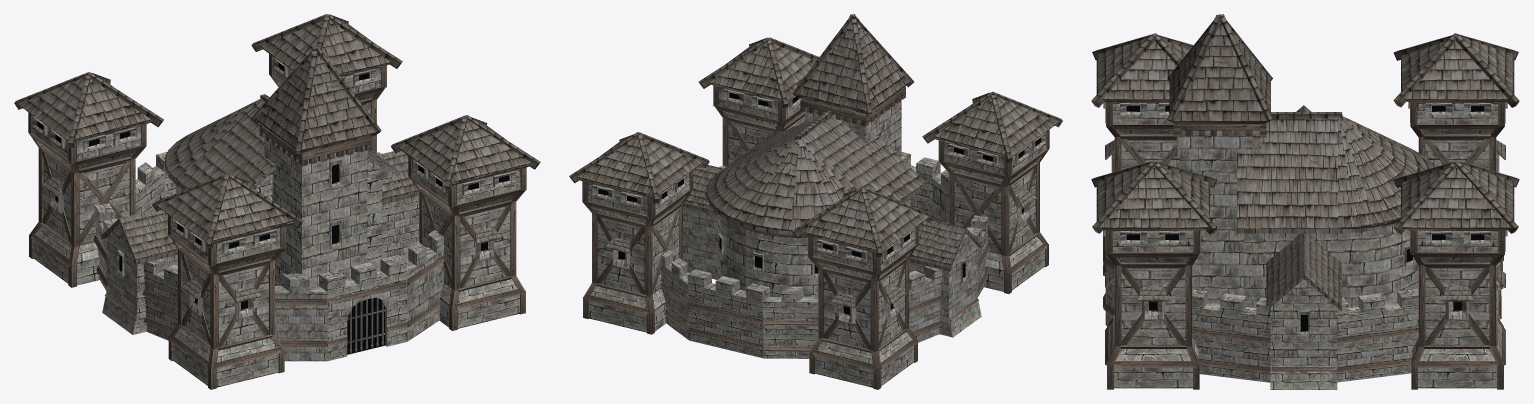
Rendered from humanbase.fbx.
The picture shows the model from 3 angles, left to right: view 1: azimuth 30°, elevation 25°; view 2: azimuth 150°, elevation 25°; view 3: azimuth 270°, elevation 25°; orthographic projection. The views are drawn at different scales.
Visible parts, largest first — view 1: Kostka.094; view 2: Kostka.094; view 3: Kostka.094.
Part boxes in pixels (bbox=[...]): Kostka.094: bbox=[14, 14, 540, 389]; Kostka.094: bbox=[569, 14, 1062, 389]; Kostka.094: bbox=[1091, 14, 1519, 389].
Size of the model in its own units: 7793 by 5944 by 7908.
6 materials, 5 textured.
